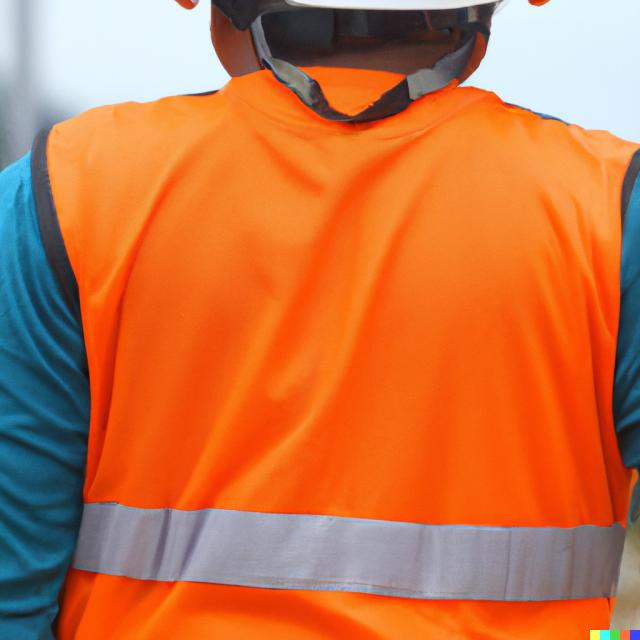Reflective-Jacket: (12, 45, 640, 632)
